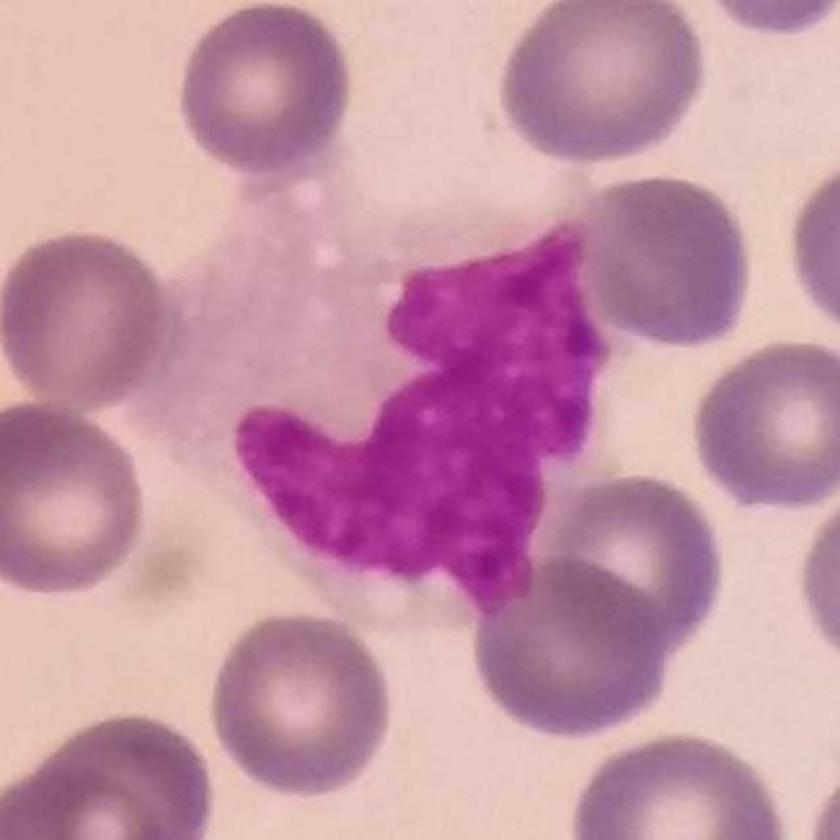monocyte: (109, 151, 644, 638)
